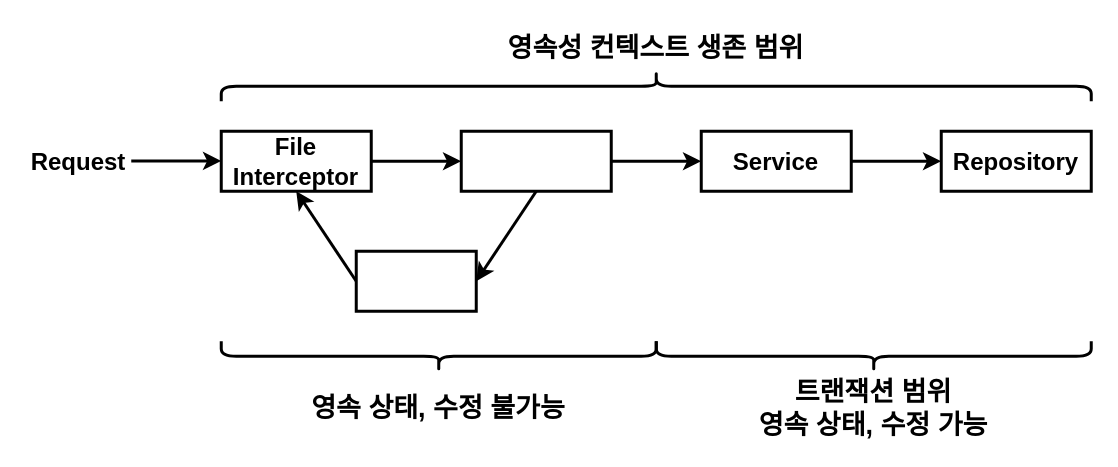
Some shapes in this 1118 by 467 pixel diagram are drawn without their labels. The shapes that lost their labels are listed below. From the top down, each one's centre as x and y in pixels, then its label:
point (535, 160): Controller
point (415, 280): View
